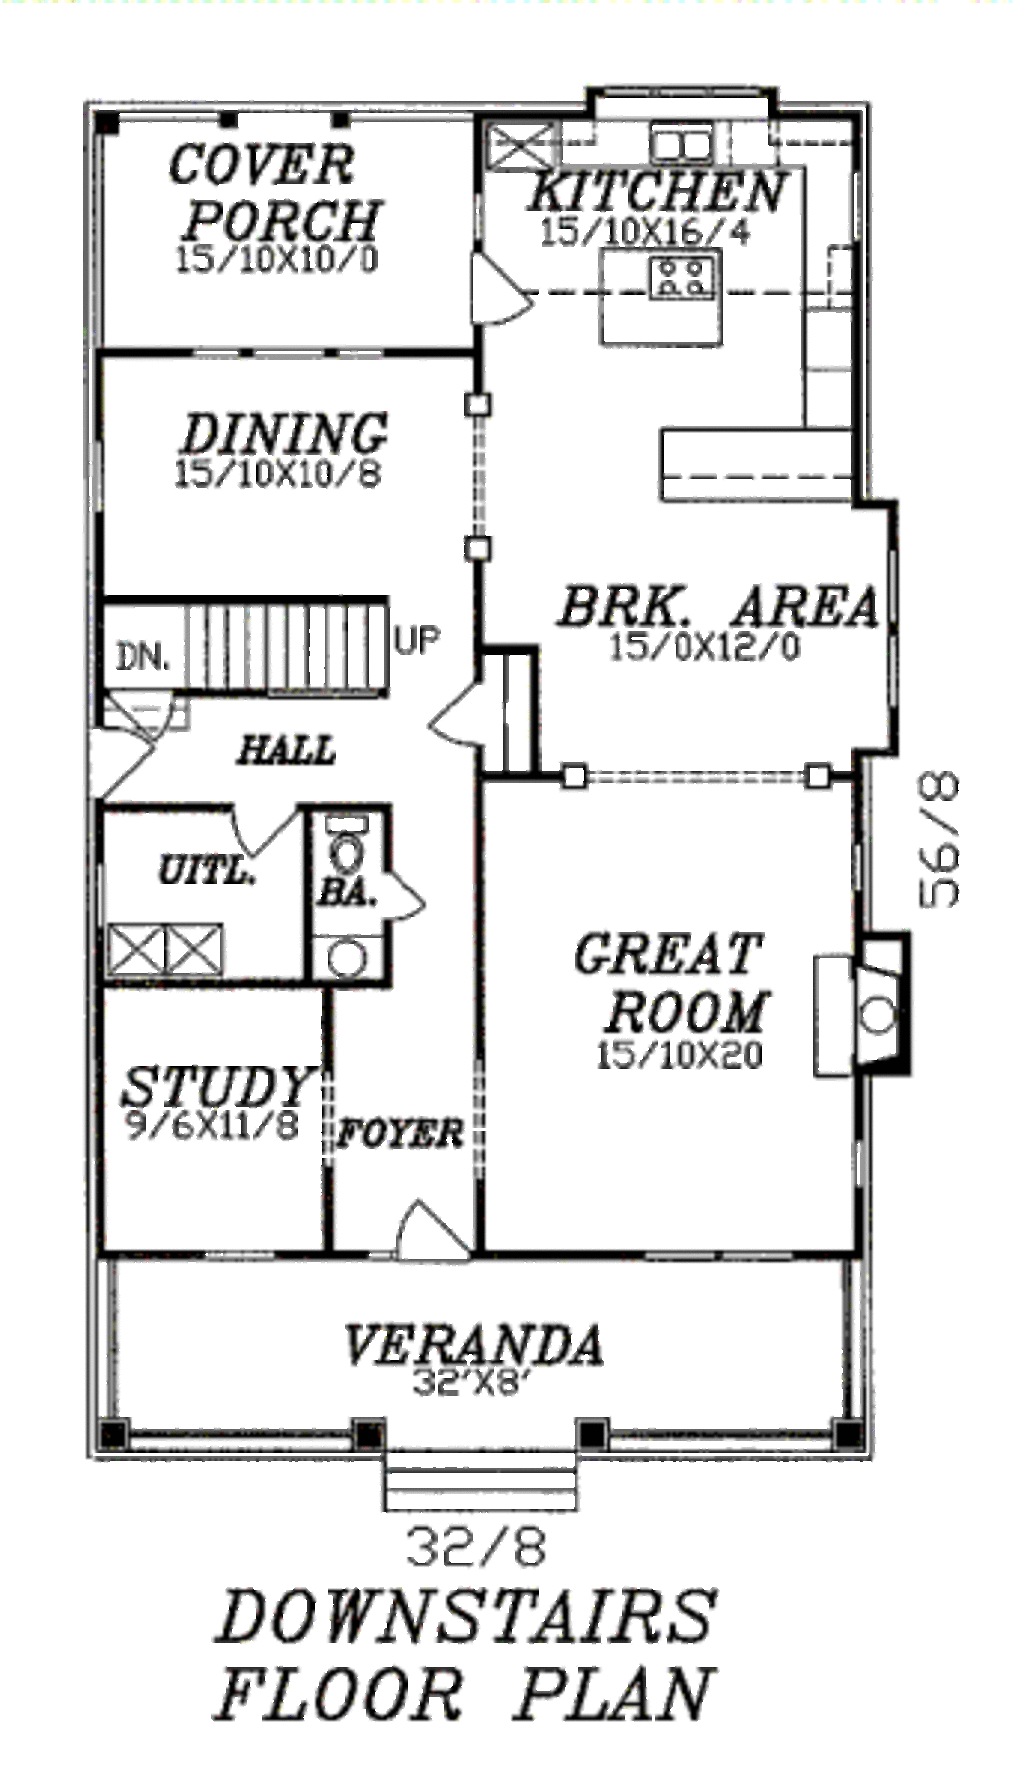door: (363, 1182, 488, 1266), (63, 716, 166, 810), (455, 236, 538, 328), (430, 680, 508, 757), (220, 796, 308, 860), (380, 871, 449, 946)
large_sink: (311, 802, 394, 894)
small_sink: (302, 930, 413, 991)
stairs: (91, 594, 391, 699)
twin_sink: (630, 102, 747, 182)
window: (636, 1232, 811, 1279), (872, 546, 919, 716), (186, 332, 388, 370), (66, 427, 139, 521), (194, 1235, 286, 1277), (83, 860, 121, 927)
